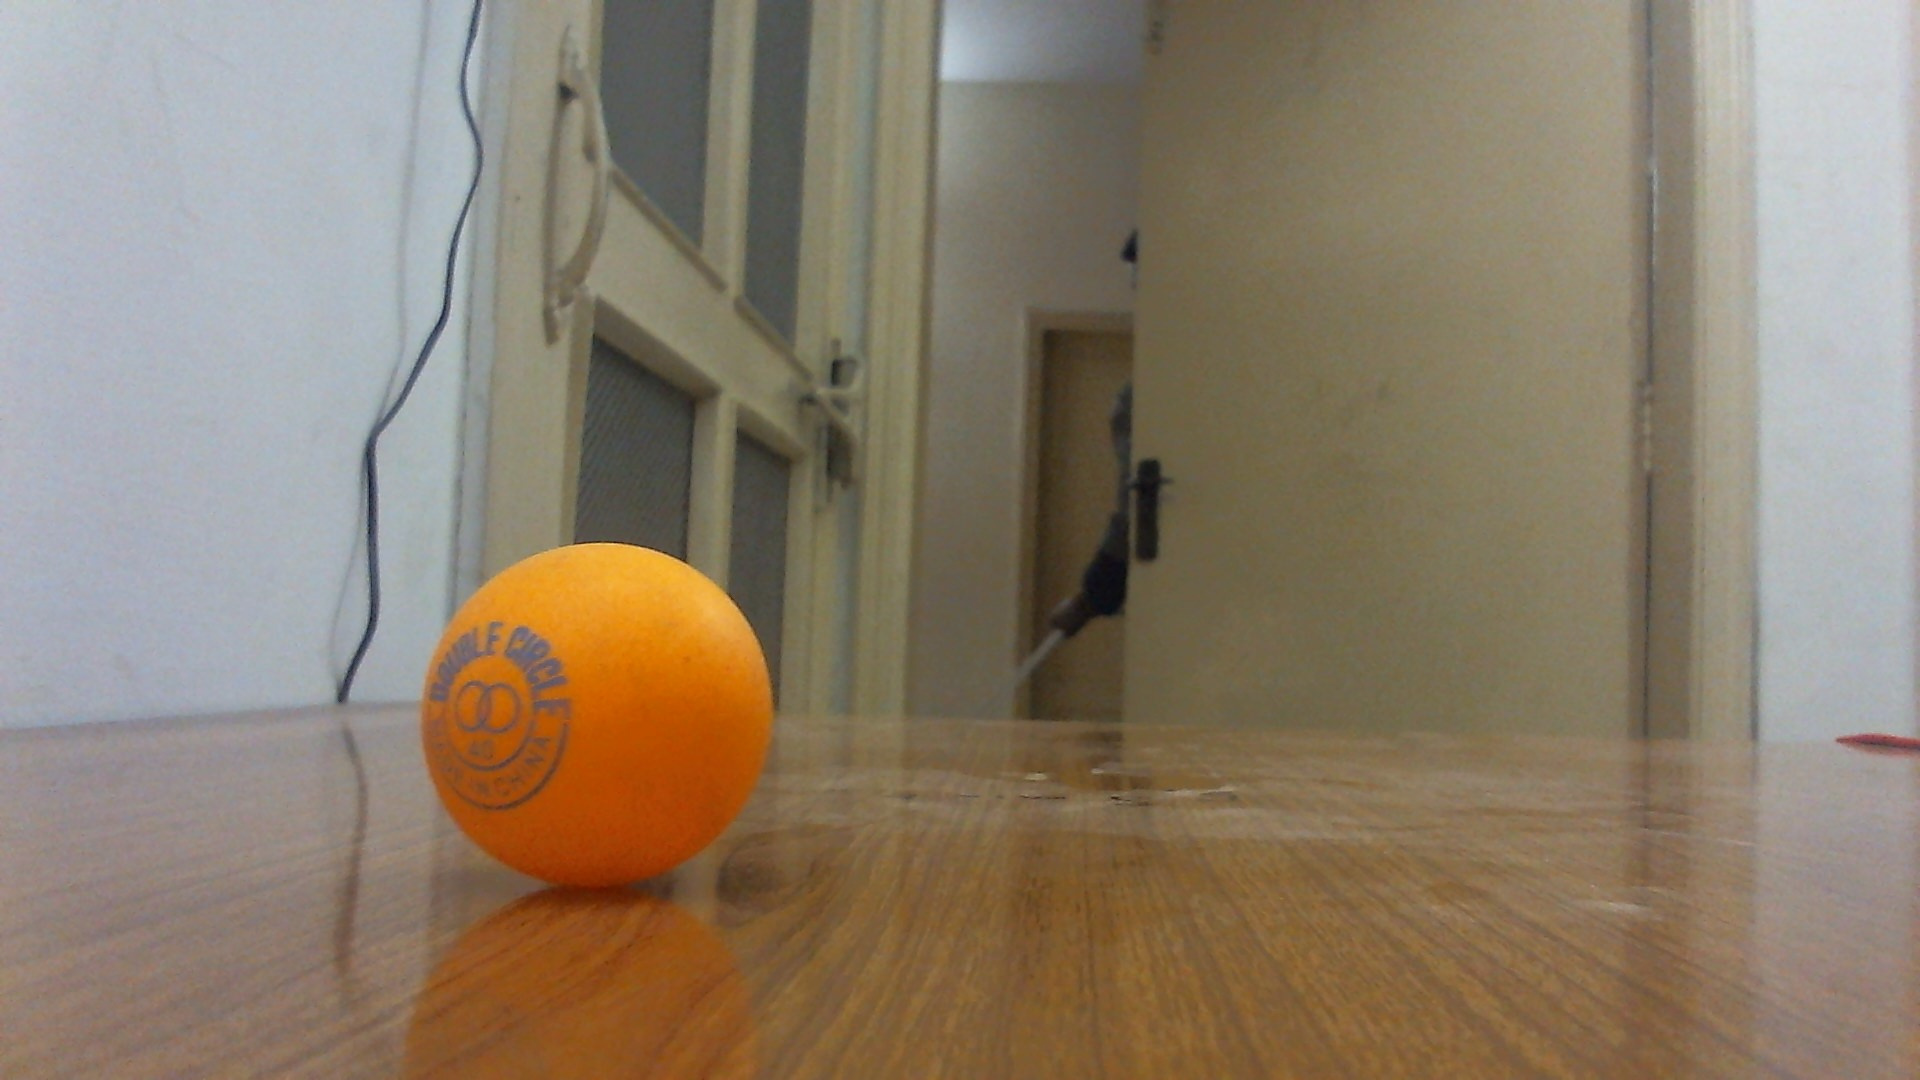ball: (422, 537, 777, 891)
